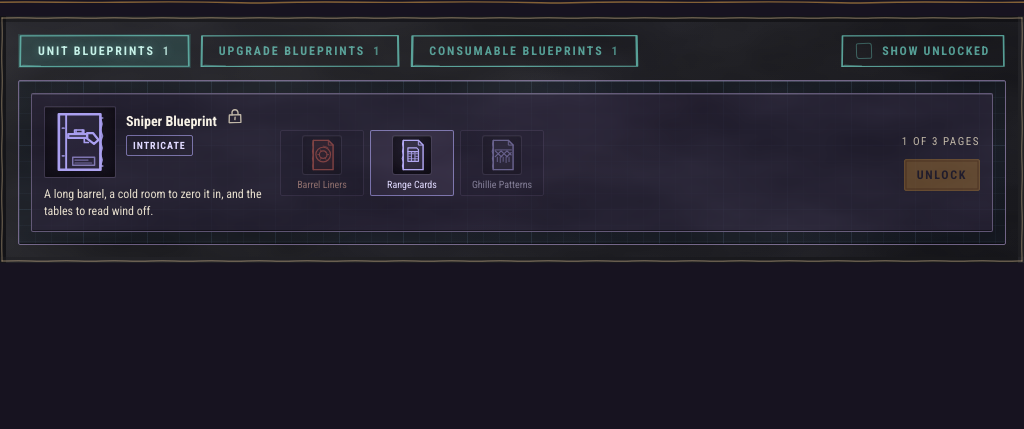
Test case: the switch and the drawers › leaves unlocked documents out until the switch is on
Expected: the list item with test id "blueprint-bp_snipers" is shown, [31,93,993,232]
Click the switch labelled "Show unlocked" at (923, 51), box [840,34,1006,68]
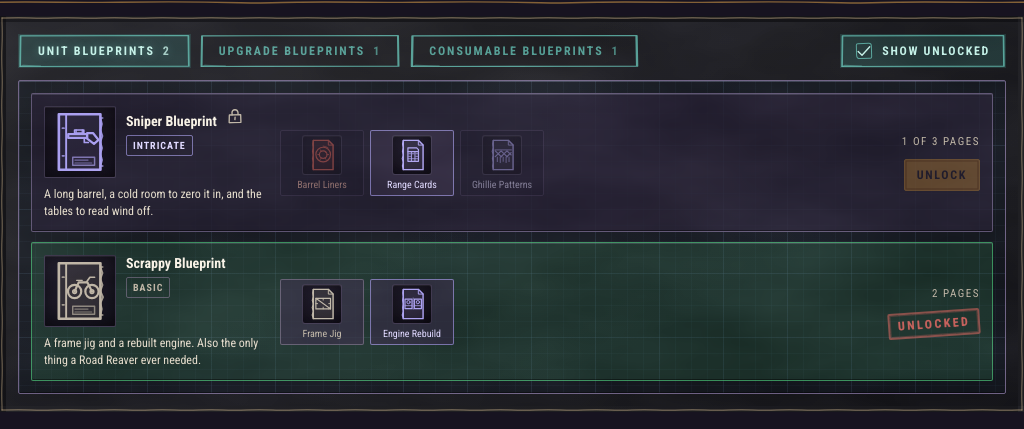
Expected: the list item with test id "blueprint-bp_snipers" is shown, [31,93,993,232]
Expected: the list item with test id "blueprint-bp_motorcycle" is shown, [31,242,993,381]
